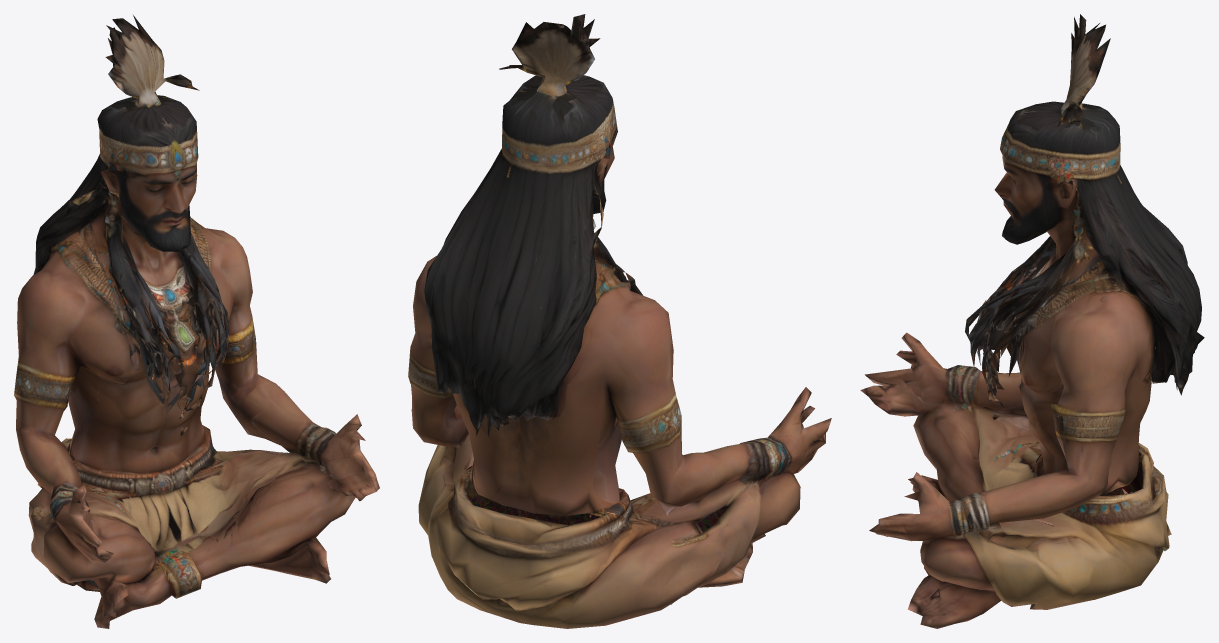
Rendered from atreyu.obj.
3 renders of one model, left to right at view 1: azimuth 30°, elevation 25°; view 2: azimuth 150°, elevation 25°; view 3: azimuth 270°, elevation 25°, orthographic. The views are drawn at different scales.
Visible parts, largest first — view 1: model; view 2: model; view 3: model.
Part boxes in pixels (x1=…): model: x1=14, y1=15, x2=379, y2=628; model: x1=408, y1=14, x2=831, y2=628; model: x1=860, y1=14, x2=1204, y2=628.
Bounding box in the file's own units: 1.18 × 1.99 × 1.14.
